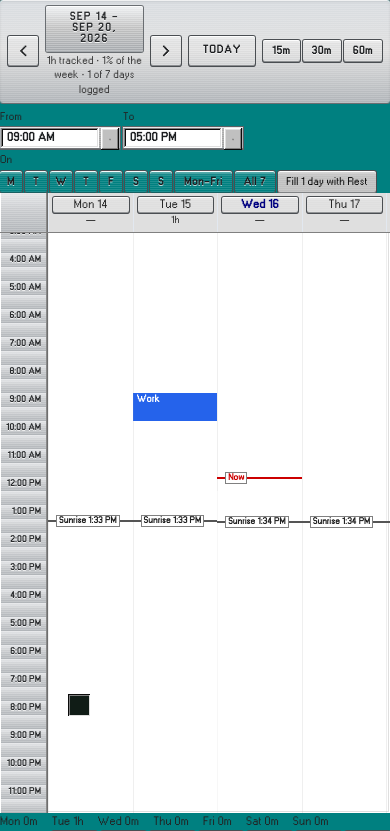
Scenario: WeekGrid › opens the block editor when a painted cell is clicked, even with another pen in hand
(page scrolled)
Press the mouse on the element showing "Work" at x=175, y=400, box [133,393,217,407]
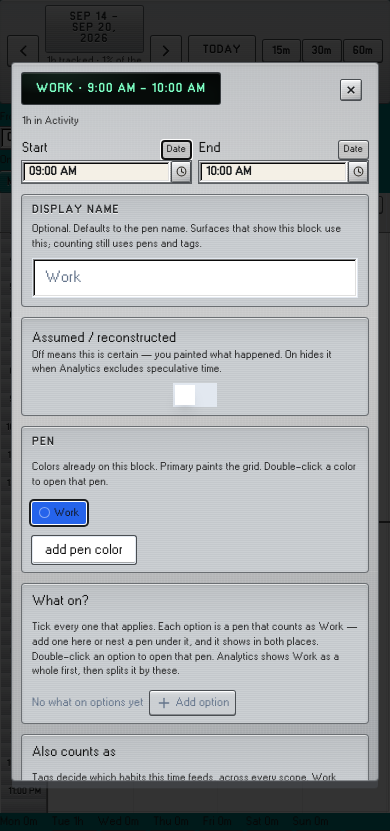
Now the dialog shows "Work", box [36,83,74,94]
Now the dropdown labelled "Start" holds "09:00", box [23,162,170,182]
